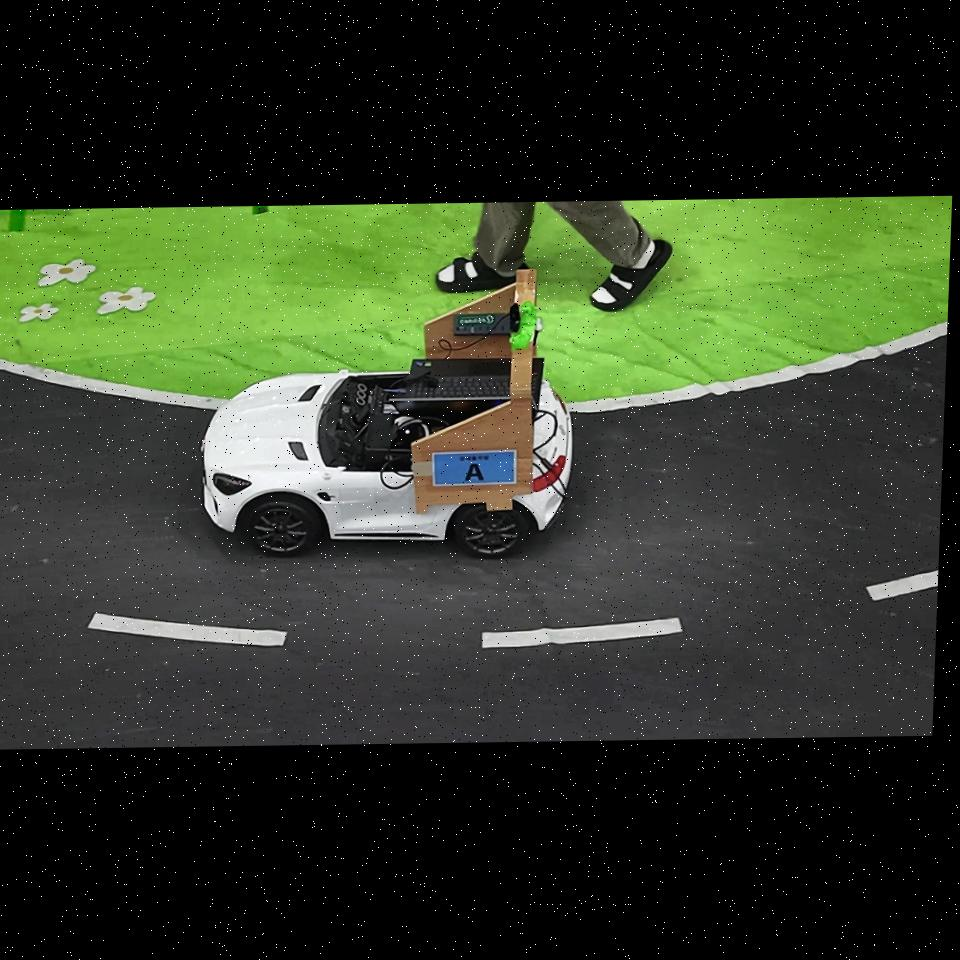broken_line: (87, 613, 287, 646), (482, 618, 683, 648), (866, 570, 938, 601)
